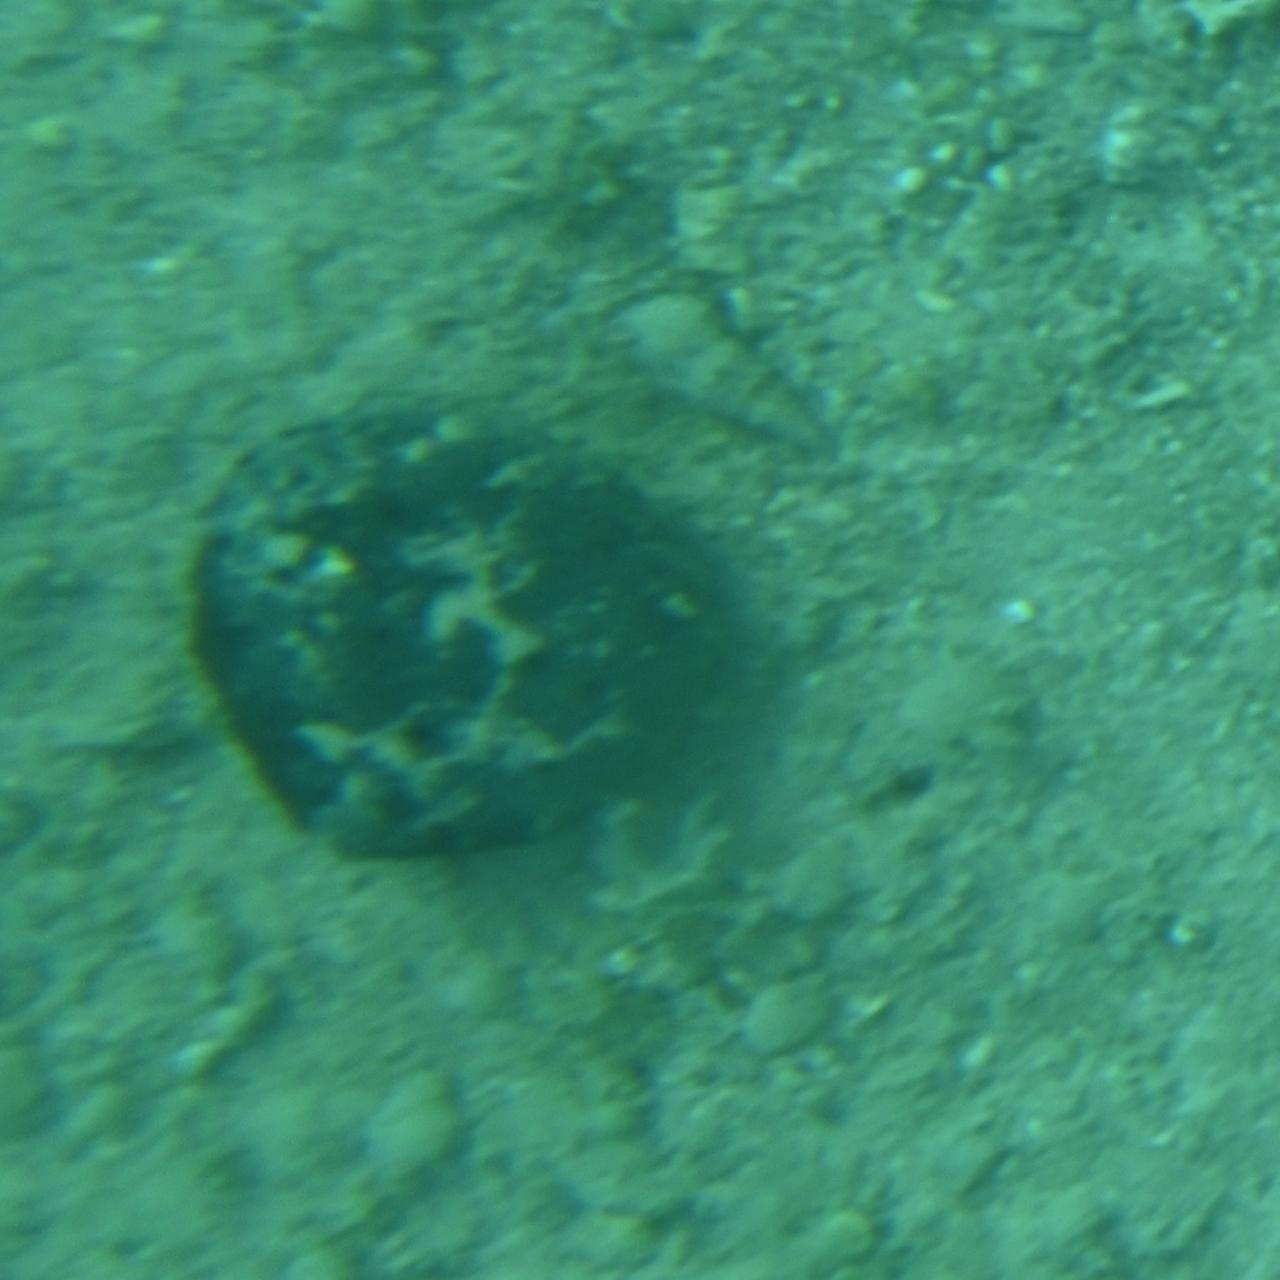Keratosa -cfr Sarcotragus-: (179, 402, 717, 878)
